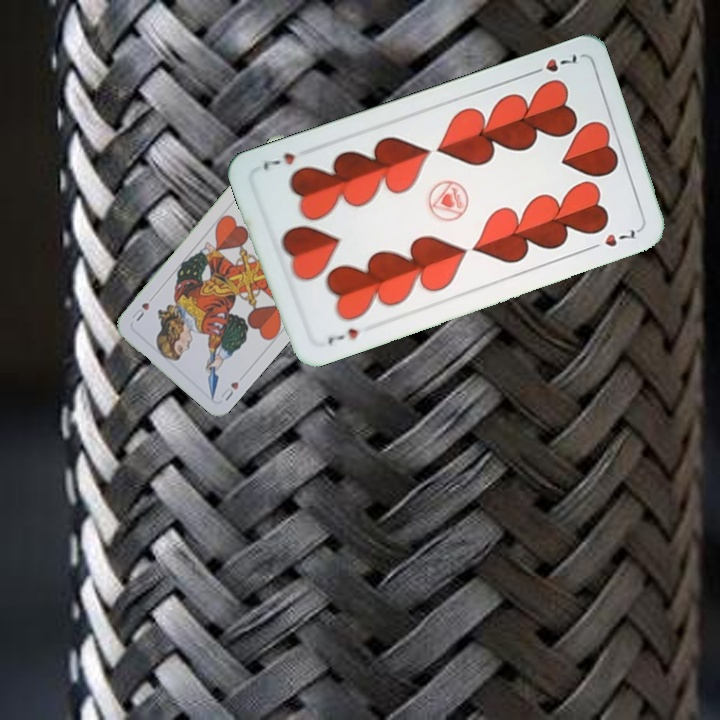H7: (525, 51, 580, 78), (323, 324, 361, 347)
HU: (217, 378, 241, 404)
